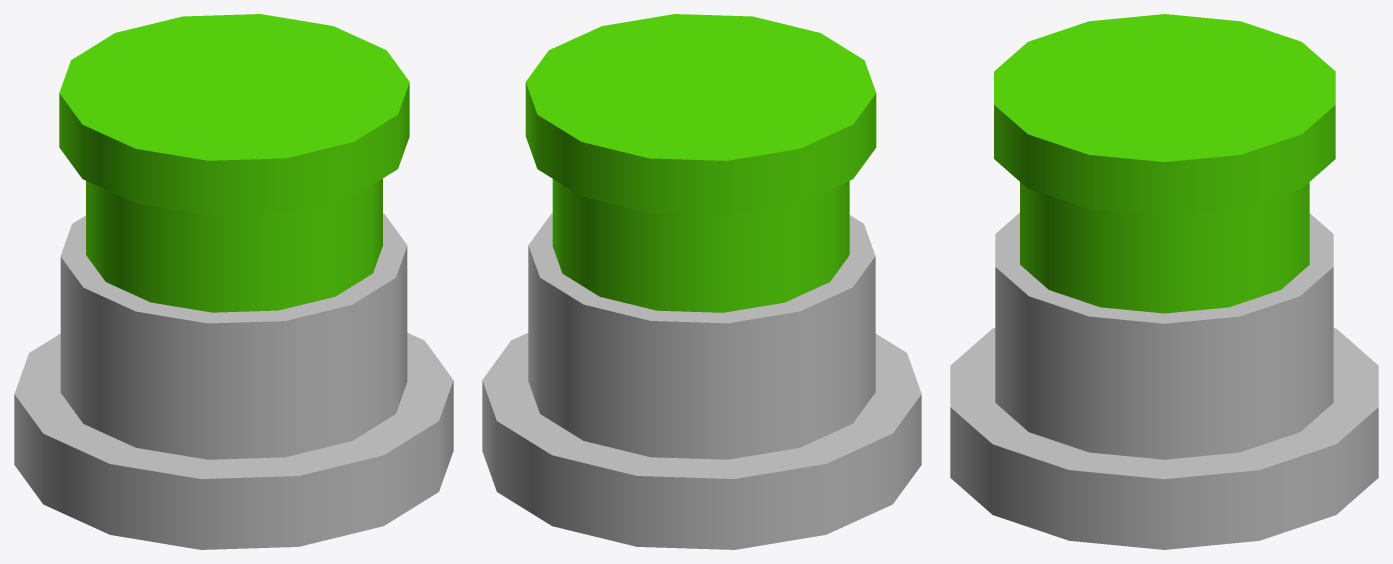
Rendered from Push_button.fbx.
3 renders of one model, left to right at view 1: azimuth 30°, elevation 25°; view 2: azimuth 150°, elevation 25°; view 3: azimuth 270°, elevation 25°, orthographic.
Parts seen in each view (by area): view 1: Button (×2); view 2: Button (×2); view 3: Button (×2).
Boxes of the visible parts, x1,y1,x2,y2 form: Button (×2): [14, 14, 453, 549]; Button (×2): [482, 14, 921, 549]; Button (×2): [950, 14, 1378, 549].
Bounding box in the file's own units: 9.84 × 9.12 × 9.59.
